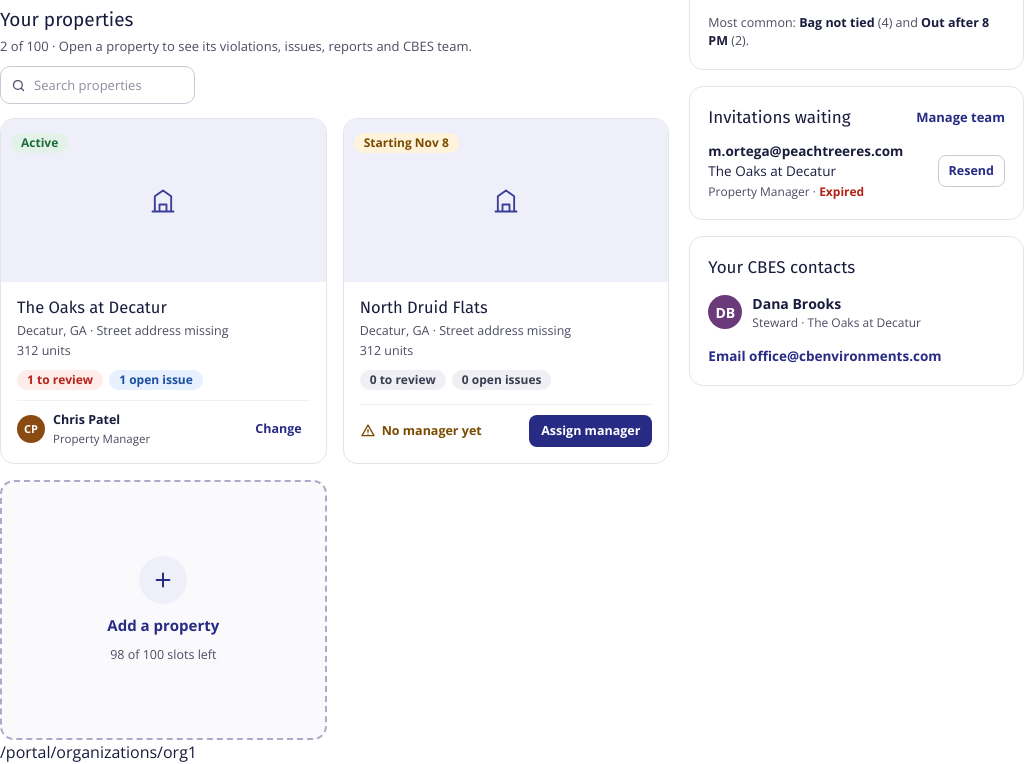
it: Assign manager › adds someone from the team and invites someone new
(page scrolled)
Click the button with aria-label "Assign a manager to North Druid Flats".
click(591, 431)  # box [529, 415, 652, 447]
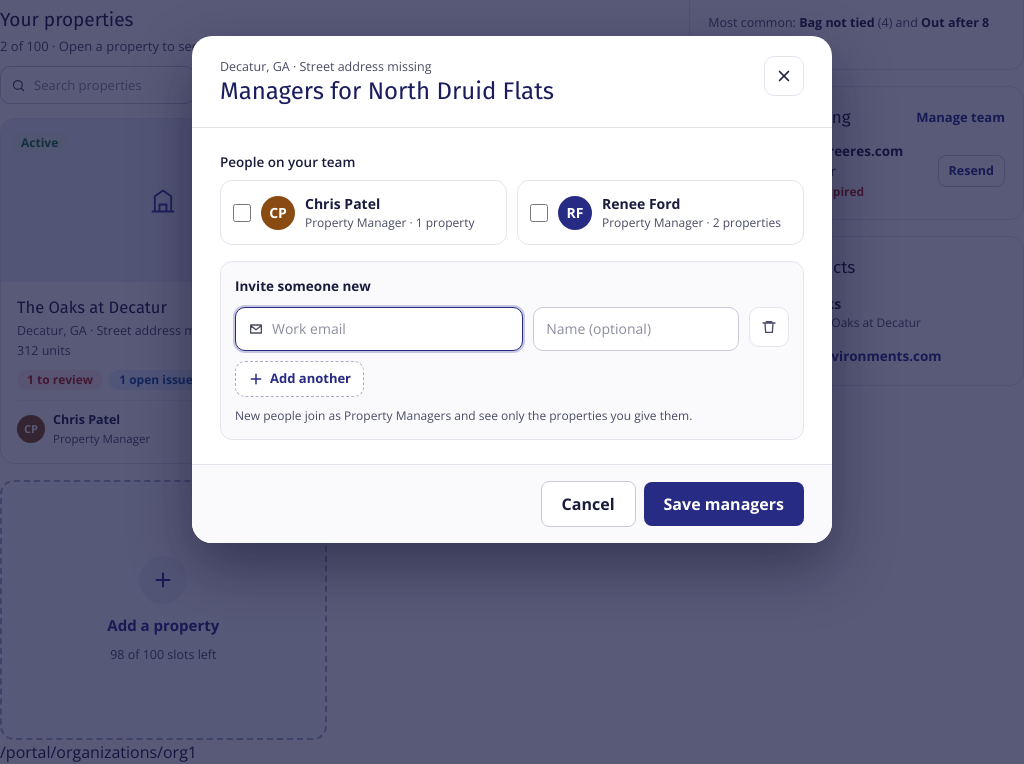
Click the checkbox labelled "RF Renee Ford Property Manager · 2 properties".
click(539, 213)  # box [530, 204, 548, 222]
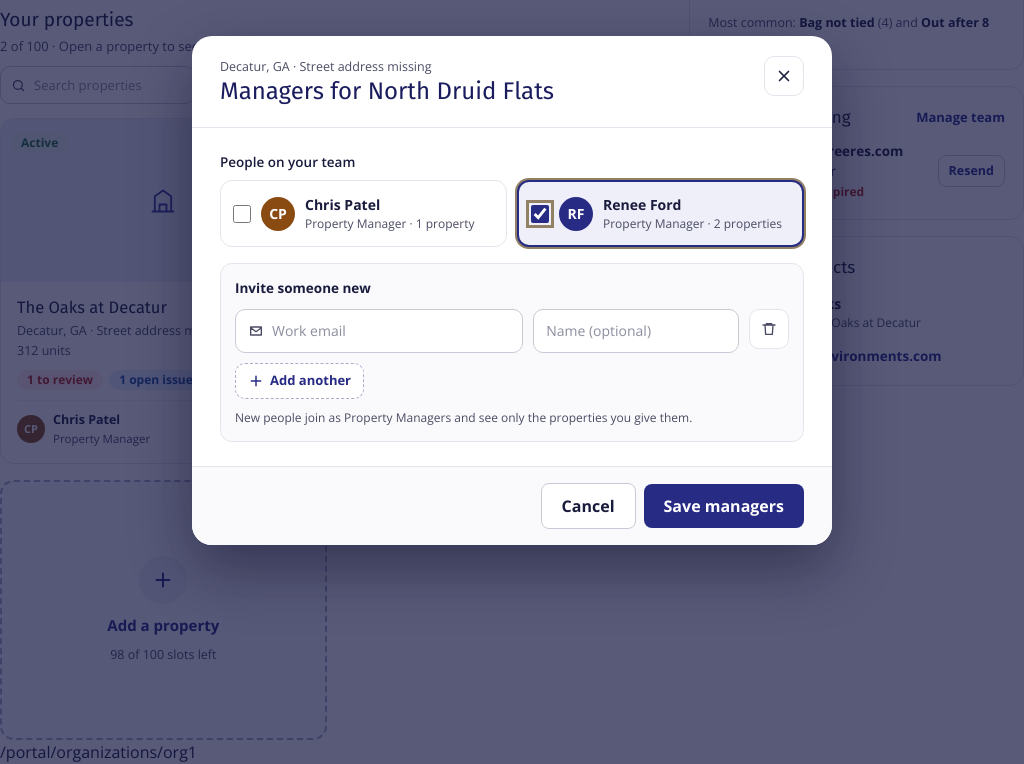
Type "dee@peachtree.com" into the field named "Email for person 1".
click(391, 331); type("dee@peachtree.com")  # box [272, 320, 510, 341]
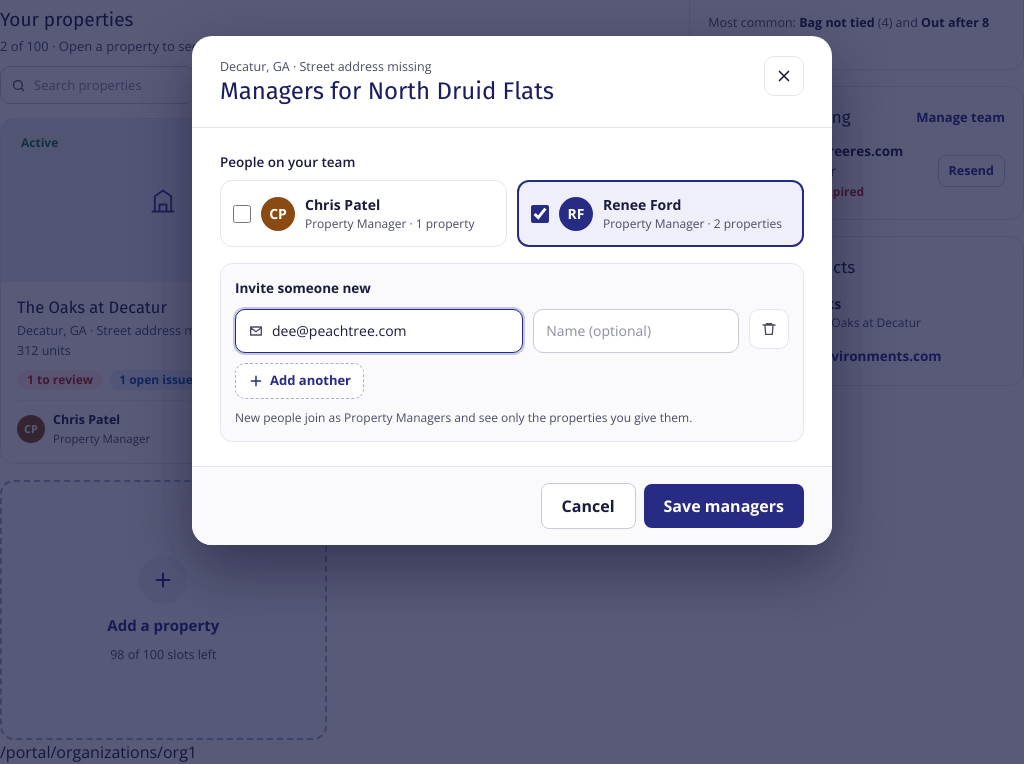
Click the button "Save managers".
click(724, 506)  # box [644, 484, 804, 528]
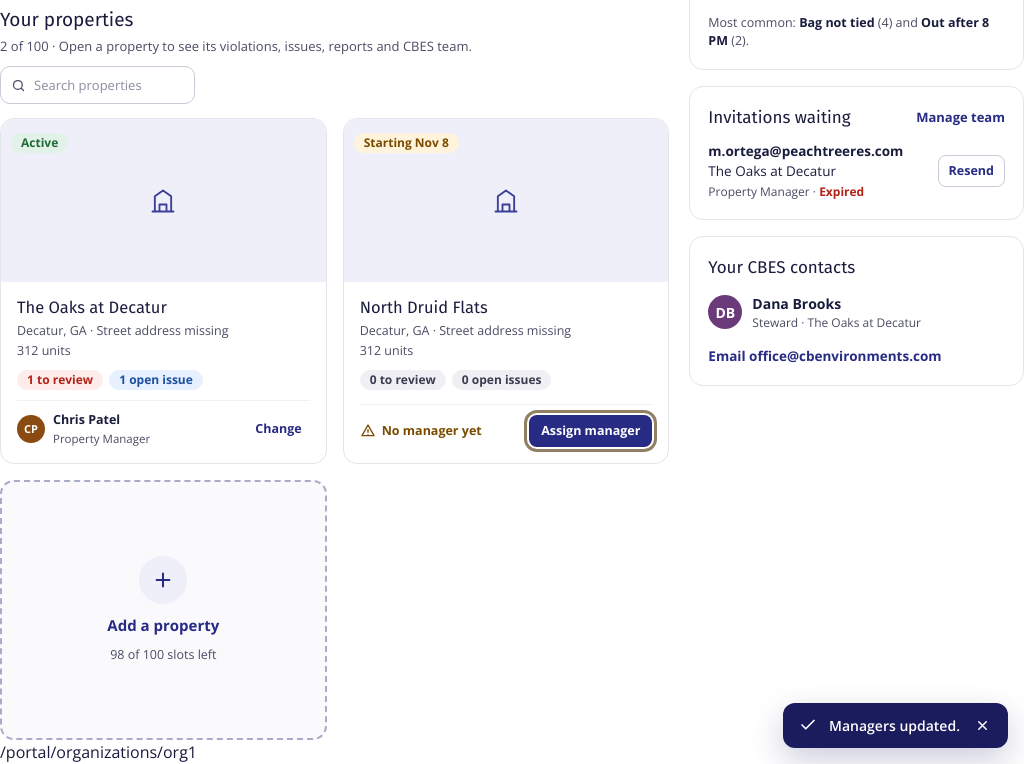
Expected: the text "Managers updated." is shown, [829, 715, 960, 736]
Expected: the dialog is gone
